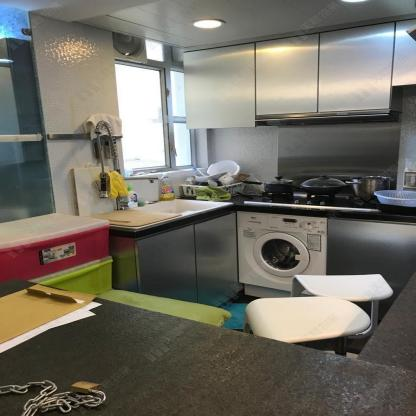Cupboard: (182, 23, 395, 128), (130, 210, 240, 306)
Exhaust Fan: (113, 31, 147, 63)
Exhaust Hood: (256, 109, 395, 128)
Sink: (140, 196, 229, 214)
Stove: (243, 194, 379, 213)
Washing Machine: (237, 211, 328, 291)
